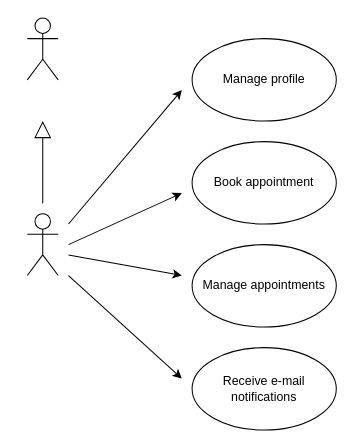
This 354x448 diagram has some shape labels left out. The shapes that lost their labels are listed below. From the top down, each one's centre as x and y in pixels, then its label:
At point 42,48: "User not logged in".
At point 42,244: "User".
